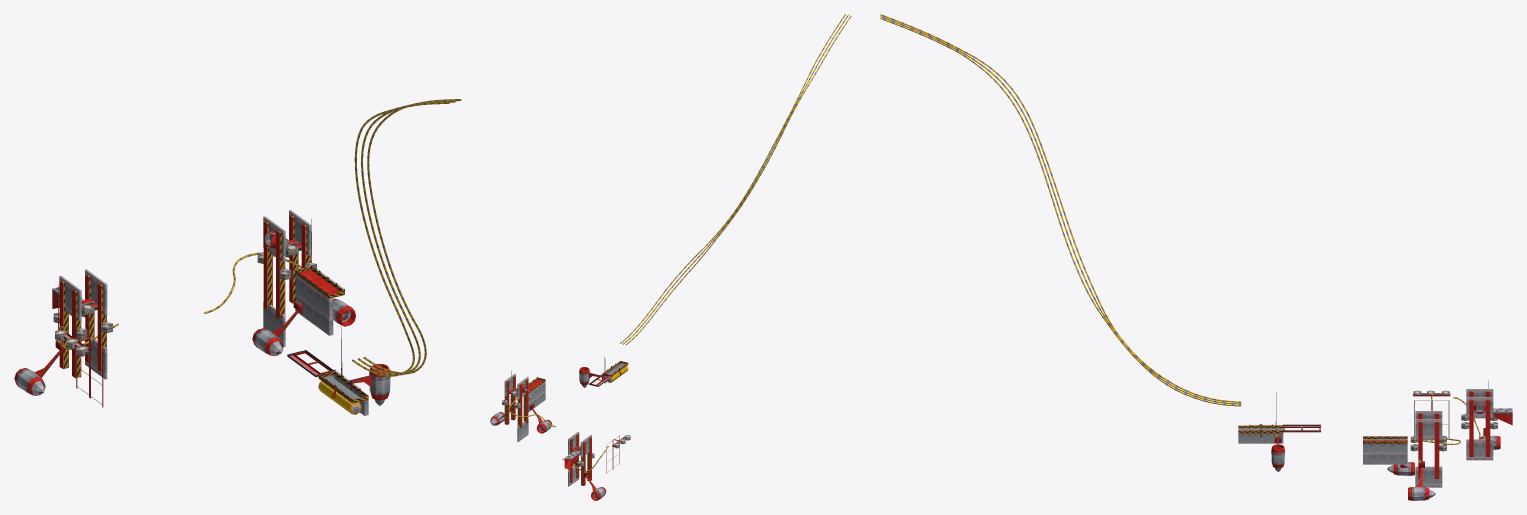
3 views of the same model, side by side, from view 1: azimuth 30°, elevation 25°; view 2: azimuth 150°, elevation 25°; view 3: azimuth 270°, elevation 25° (orthographic). The views are drawn at different scales.
Parts seen in each view (by area): view 1: s13_on_11_8, s13_on_11_2, s13_on_11_1, s13_on_11_4, s13_on_11_12, s13_on_11_7, s13_on_11_3, s13_on_11_11; view 2: s13_on_11_1, s13_on_11_2, s13_on_11_8, s13_on_11_4; view 3: s13_on_11_8, s13_on_11_1, s13_on_11_2, s13_on_11_4.
Part boxes in pixels (left/top/right/bottom): s13_on_11_8: left=31, top=211, right=384, bottom=415; s13_on_11_2: left=14, top=215, right=390, bottom=400; s13_on_11_1: left=58, top=99, right=461, bottom=376; s13_on_11_4: left=60, top=214, right=368, bottom=404; s13_on_11_12: left=16, top=299, right=390, bottom=394; s13_on_11_7: left=55, top=301, right=352, bottom=407; s13_on_11_3: left=52, top=210, right=316, bottom=348; s13_on_11_11: left=53, top=249, right=316, bottom=356; s13_on_11_1: left=508, top=14, right=851, bottom=470; s13_on_11_2: left=490, top=367, right=620, bottom=500; s13_on_11_8: left=490, top=363, right=621, bottom=486; s13_on_11_4: left=504, top=361, right=628, bottom=485; s13_on_11_8: left=1238, top=389, right=1493, bottom=497; s13_on_11_1: left=880, top=14, right=1480, bottom=444; s13_on_11_2: left=1271, top=392, right=1512, bottom=500; s13_on_11_4: left=1238, top=391, right=1490, bottom=443.
Bounding box in the file's own units: 1572 × 3101 × 4220.
19 materials, 19 textured.
